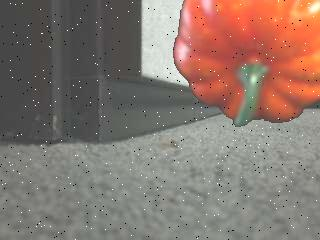Pumpkin: (172, 0, 320, 127)
